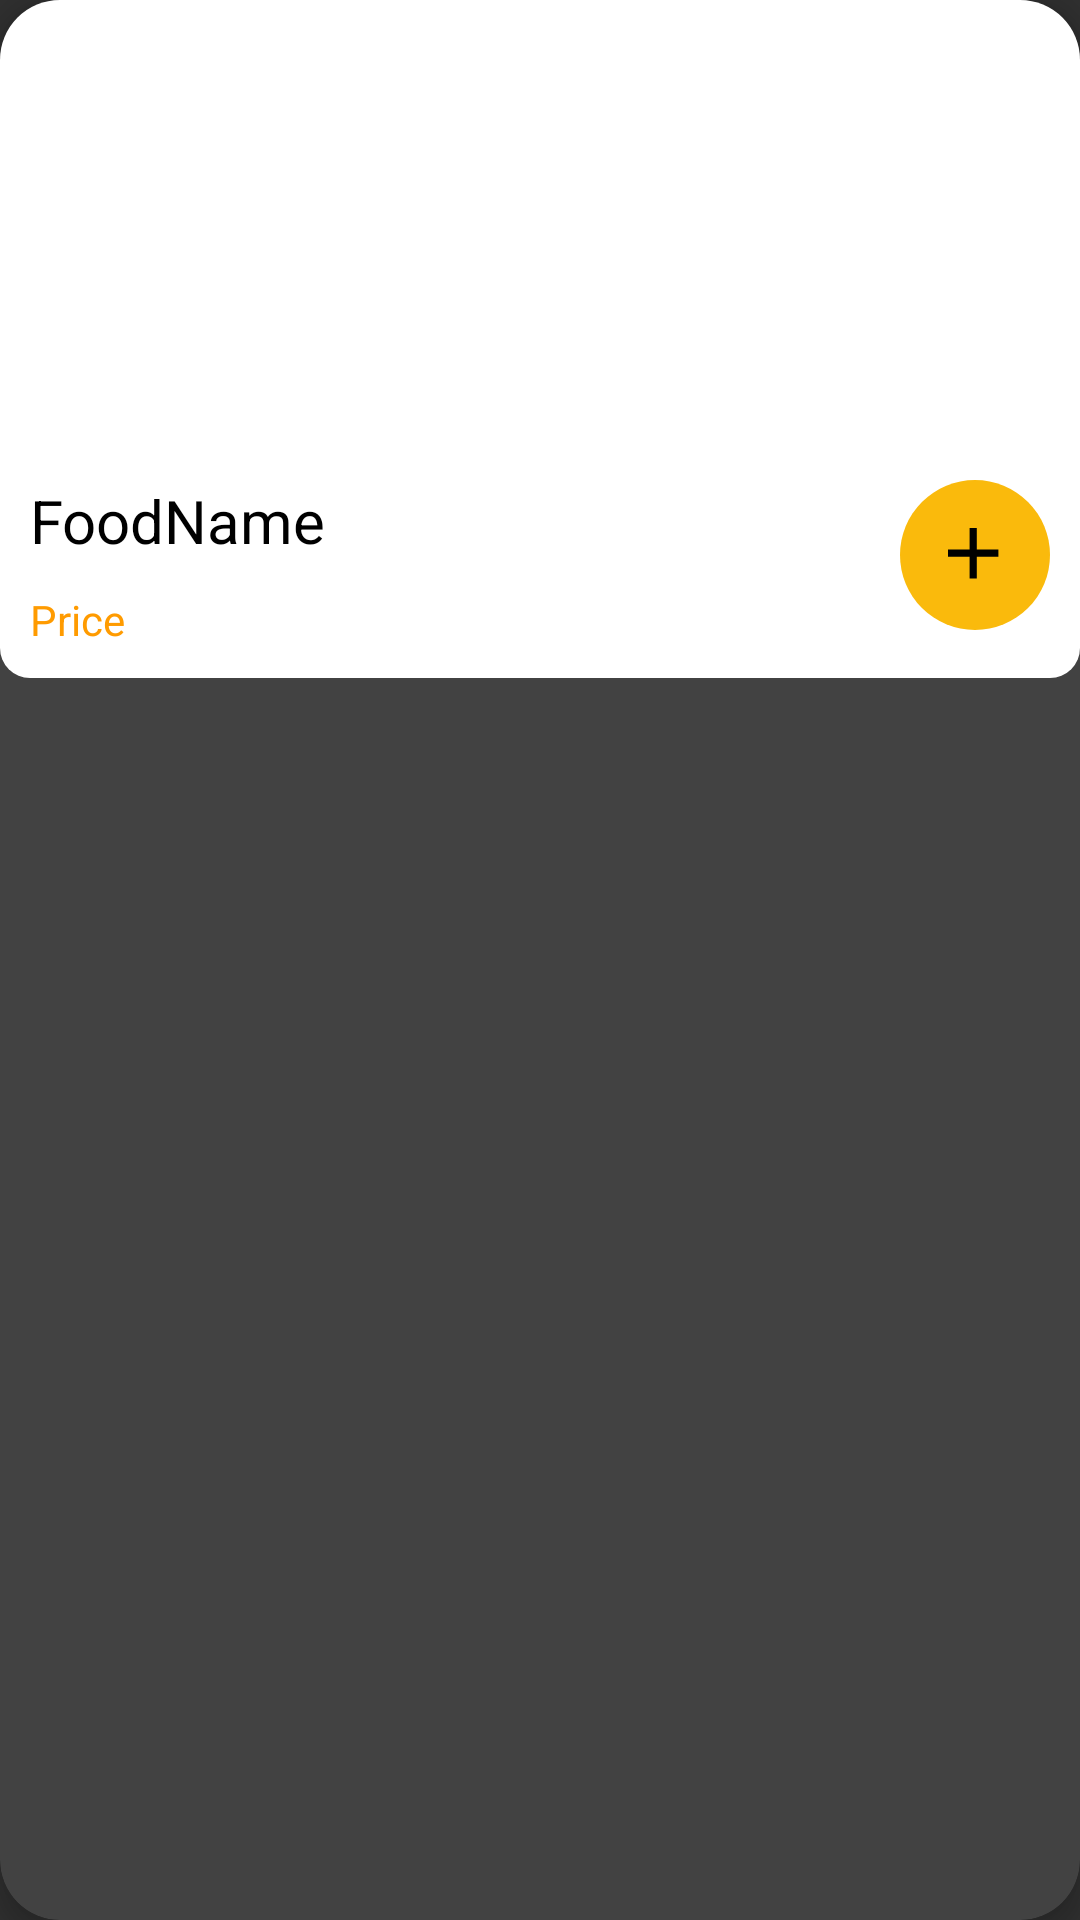

Where icons sit on this 1080px x 1920px app screen, as {"left": x1, "top": y1, "right": x2, "bottom": y2}:
add: {"left": 900, "top": 480, "right": 1050, "bottom": 630}
